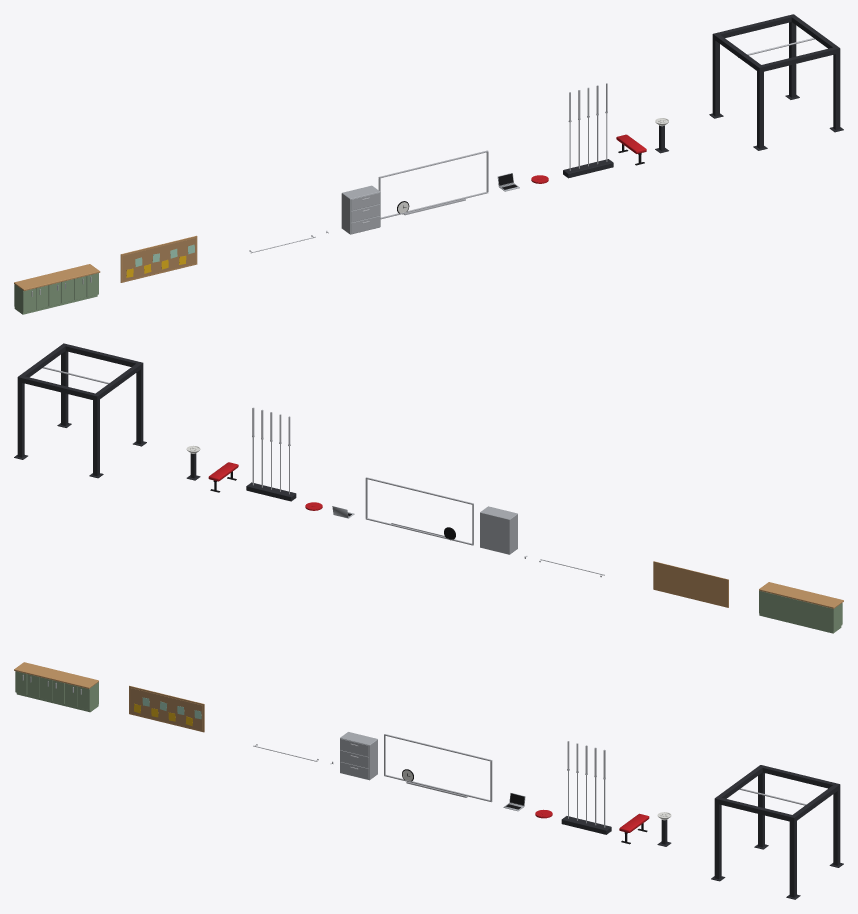
The model's file is BackRooms_01.glb.
3 views of the same model, one above another, from view 1: azimuth 30°, elevation 25°; view 2: azimuth 150°, elevation 25°; view 3: azimuth 330°, elevation 25° (orthographic).
Parts seen in each view (by area): view 1: StrongmanRig_Frame, KitchenUnit_Body, FilingCabinet_Body, CorkBoard_Cork, KitchenUnit_Top, BarStand_Bars, WhiteboardFrame_Frame; view 2: StrongmanRig_Frame, CorkBoard_Frame, KitchenUnit_Body, FilingCabinet_Body, KitchenUnit_Top, BarStand_Bars, WhiteboardFrame_Frame; view 3: StrongmanRig_Frame, KitchenUnit_Body, FilingCabinet_Body, CorkBoard_Cork, KitchenUnit_Top, WhiteboardFrame_Frame, BarStand_Bars, BarStand_Holder.
Boxes of the visible parts, box(x1,y1,x2,y2) form: StrongmanRig_Frame: box(709, 14, 843, 150); KitchenUnit_Body: box(14, 273, 98, 314); FilingCabinet_Body: box(341, 185, 380, 234); CorkBoard_Cork: box(122, 238, 195, 281); KitchenUnit_Top: box(14, 264, 100, 291); BarStand_Bars: box(568, 83, 607, 170); WhiteboardFrame_Frame: box(378, 150, 488, 219); StrongmanRig_Frame: box(14, 343, 146, 478); CorkBoard_Frame: box(653, 561, 728, 607); KitchenUnit_Body: box(759, 590, 842, 633); FilingCabinet_Body: box(480, 506, 517, 554); KitchenUnit_Top: box(759, 582, 843, 608); BarStand_Bars: box(252, 407, 290, 494); WhiteboardFrame_Frame: box(365, 477, 473, 545); StrongmanRig_Frame: box(711, 765, 843, 899); KitchenUnit_Body: box(15, 671, 98, 712); FilingCabinet_Body: box(340, 732, 377, 780); CorkBoard_Cork: box(130, 688, 202, 730); KitchenUnit_Top: box(14, 662, 98, 688); WhiteboardFrame_Frame: box(384, 734, 492, 802); BarStand_Bars: box(567, 741, 605, 827); BarStand_Holder: box(561, 816, 611, 834).
Size of the model in its own units: 106 by 10.45 by 11.2.
